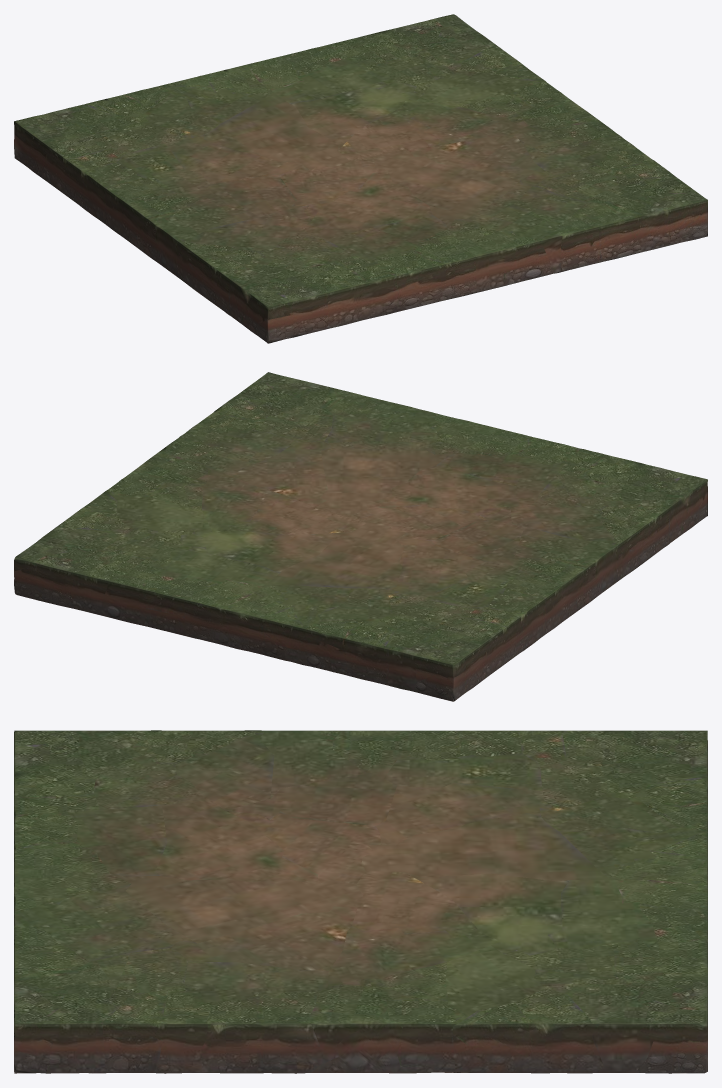
Rendered from ground.glb.
The picture shows the model from 3 angles, top to bottom: view 1: azimuth 30°, elevation 25°; view 2: azimuth 150°, elevation 25°; view 3: azimuth 270°, elevation 25°; orthographic projection. The views are drawn at different scales.
Size of the model in its own units: 1.9 by 0.1529 by 1.9.
Materials: 1 (1 with a texture image).
